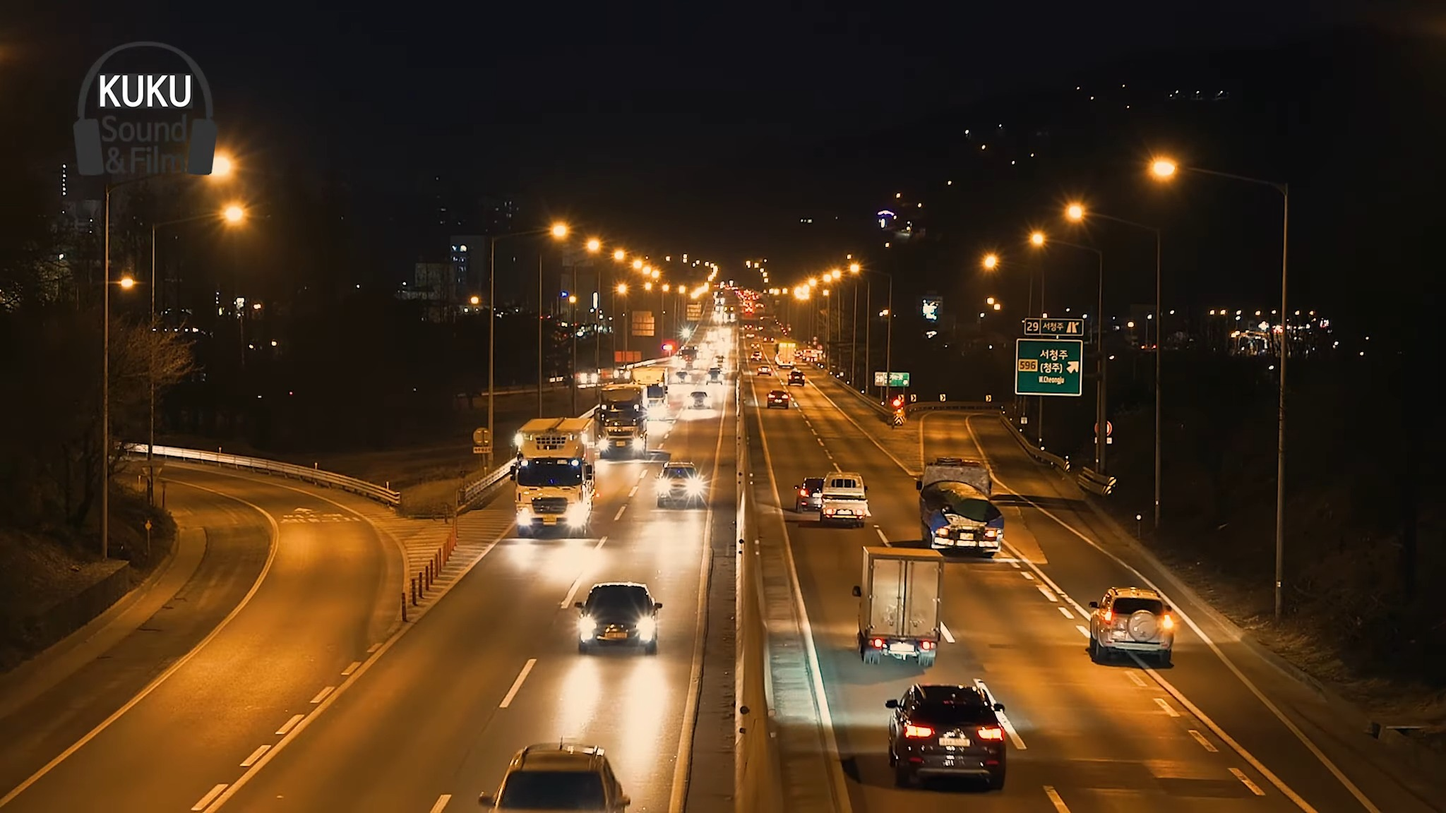car: (888, 676, 1017, 795), (1088, 579, 1182, 669), (578, 581, 654, 655), (657, 461, 698, 507)
truck: (860, 540, 945, 672), (509, 415, 598, 538), (913, 456, 1004, 562)
